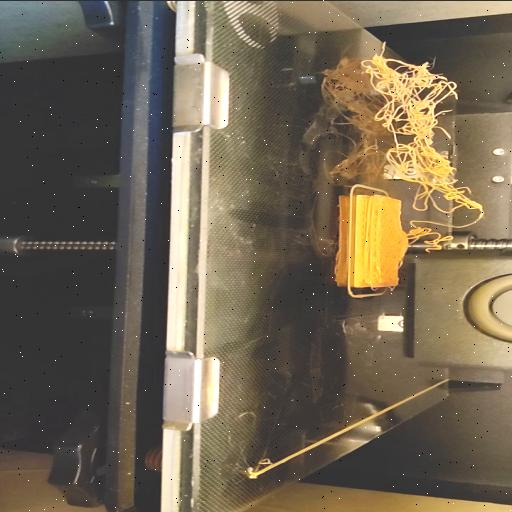spaghetti: (363, 36, 487, 248)
